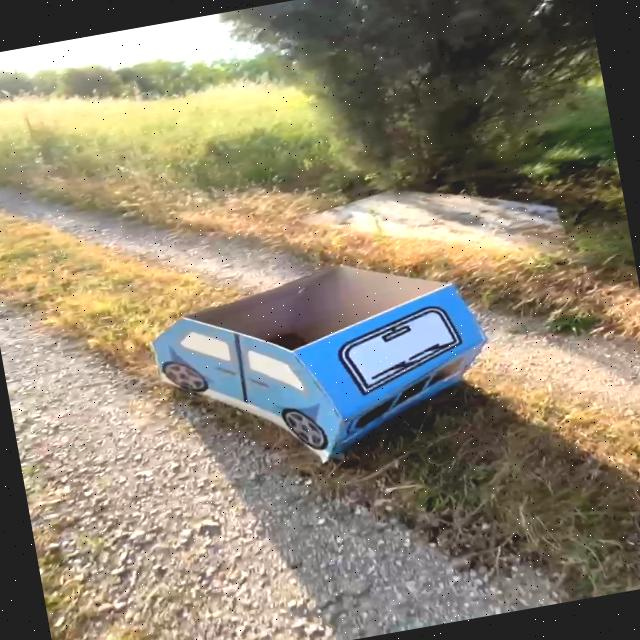blue_car: (104, 222, 572, 520)
